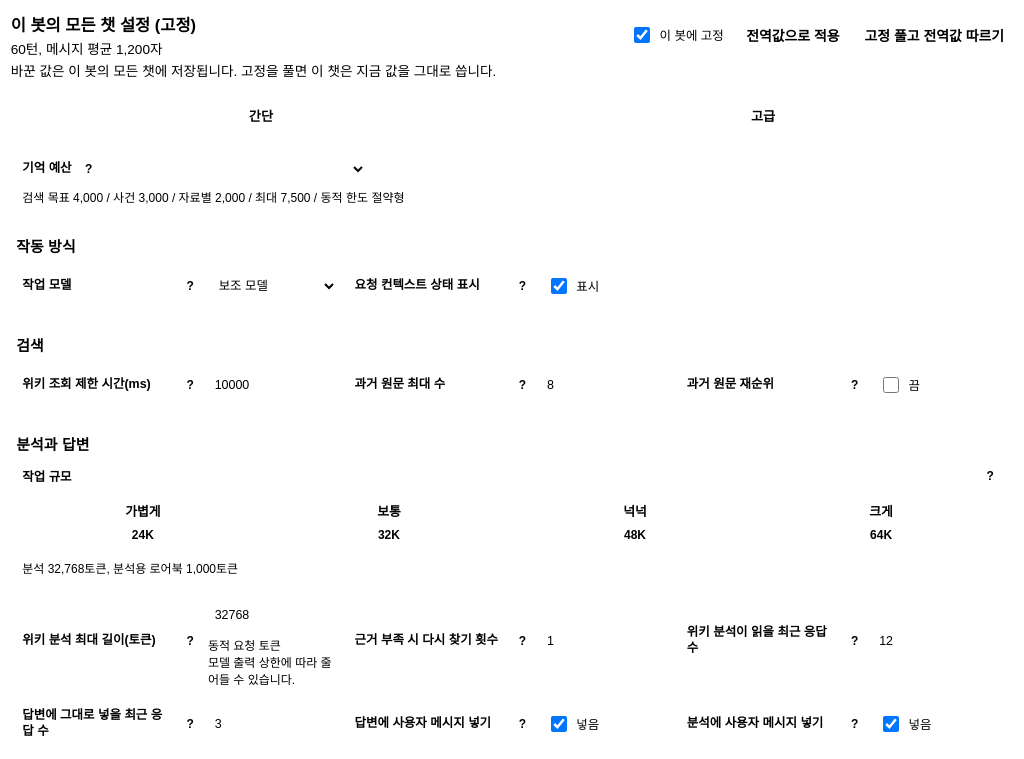
Scenario: RisuBardCurrentChatSettings › unpinning to global removes the pin and the chat overrides so the chat follows global
Expected: the number field with id "bardwiki-response-messages" holds "3", [208,703,351,744]
Click the button "고정 풀고 전역값 따르기". click: (934, 35)
box: [855,14,1013,55]
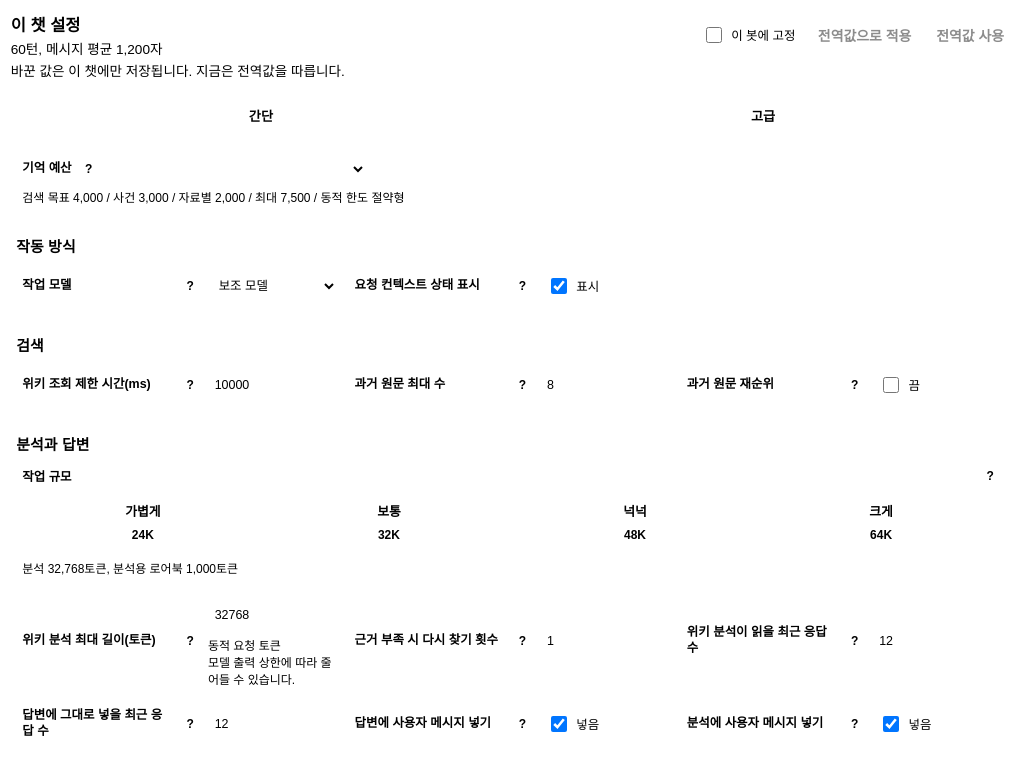
Expected: the checkbox labelled "이 봇에 고정" is not checked, [706,27,722,43]
Expected: the number field with id "bardwiki-response-messages" holds "12", [208,703,351,744]
Expected: the text "이 챗 설정" is shown, [11,16,80,34]
